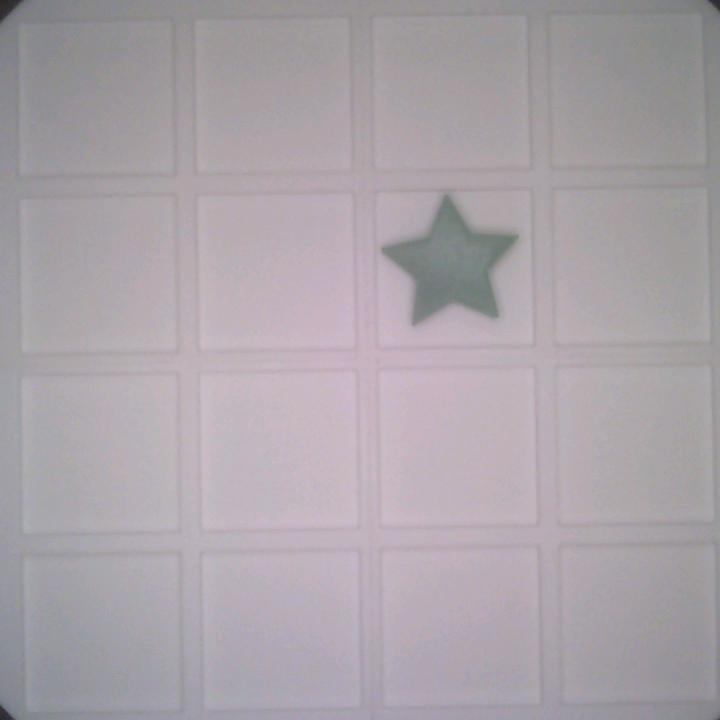Green star: (381, 194, 519, 336)
